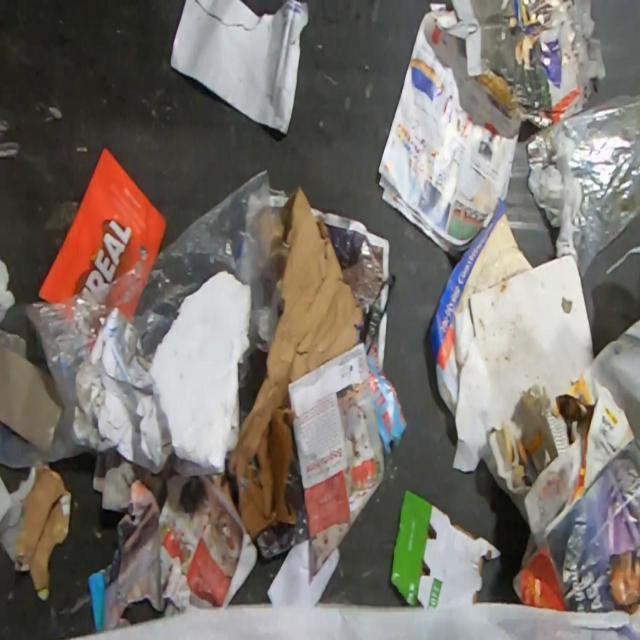cardboard: (389, 487, 505, 609)
soft_plastic: (0, 168, 292, 468), (525, 94, 640, 281)
